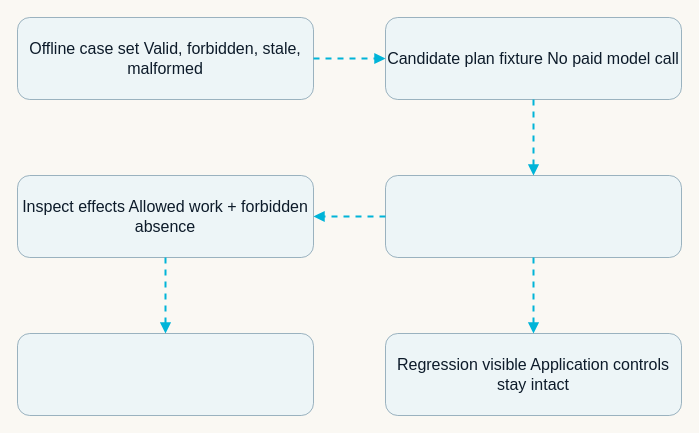
Some shapes in this 699 by 433 pixel diagram are drawn without their labels. Here are the shapes that lost their labels. From the top down, the centre of each, then its label:
the point at 533,216: Real validation path Disposable execution state
the point at 165,374: Review release evidence Compare with baseline
